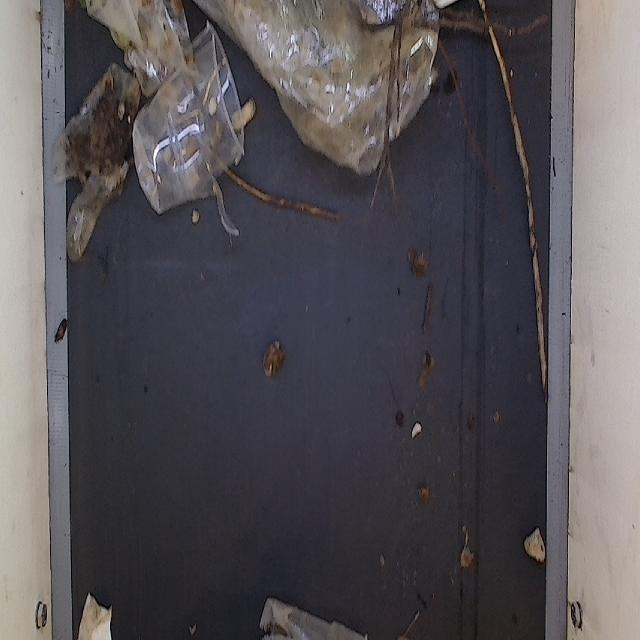plastic_cups: (128, 12, 248, 232), (260, 592, 364, 640)
plastic_films: (198, 0, 472, 200), (54, 38, 125, 258), (81, 1, 197, 89)
